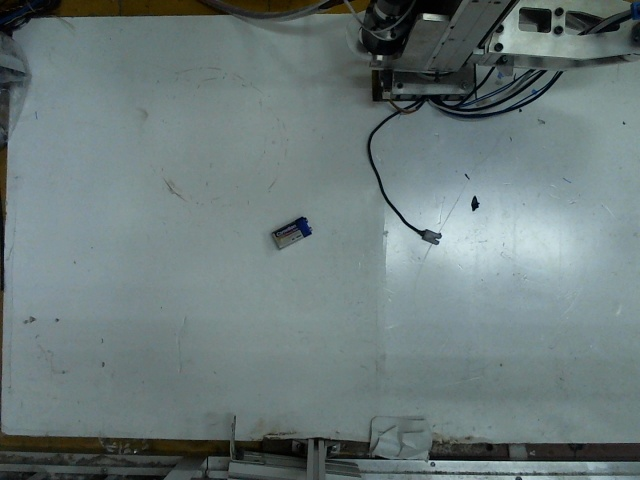battery: (268, 213, 311, 251)
